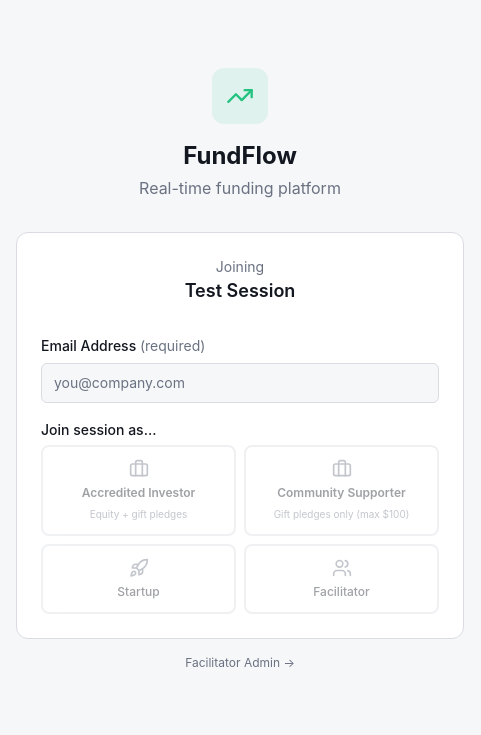
Login Page — manual flows › routes a credential-less facilitator to the create-password step
The width and height of the screenshot is (481, 735).
Check: the text "Test Session" is shown, box [185, 280, 295, 300]
Type "new@test.com" into the field with placeholder "you@company.com" at x=240, y=382, box [41, 362, 439, 402]
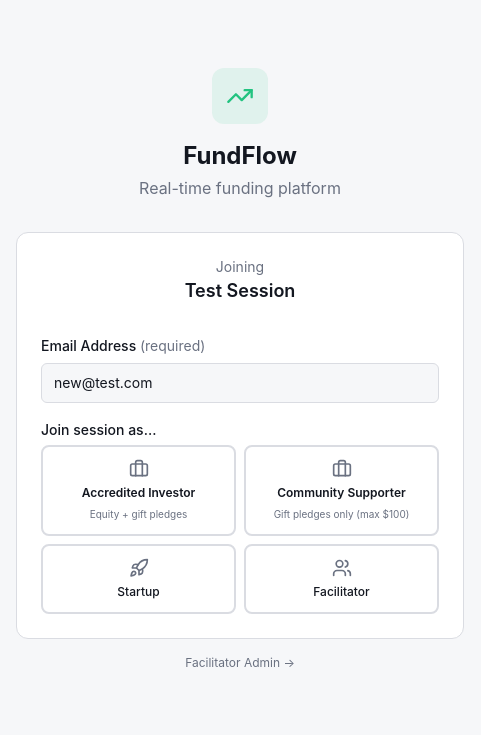
Click the button with test id "role-btn-facilitator" at x=342, y=578, box [244, 544, 439, 614]
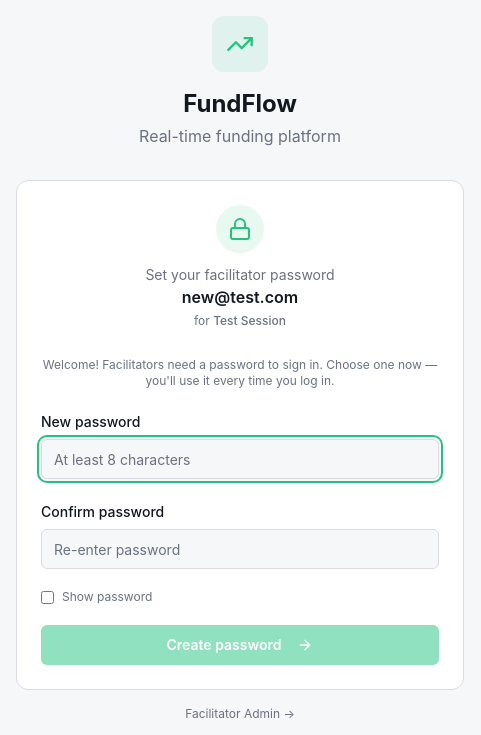
Check: the password field with placeholder "At least 8 characters" is shown, box [41, 439, 439, 479]
